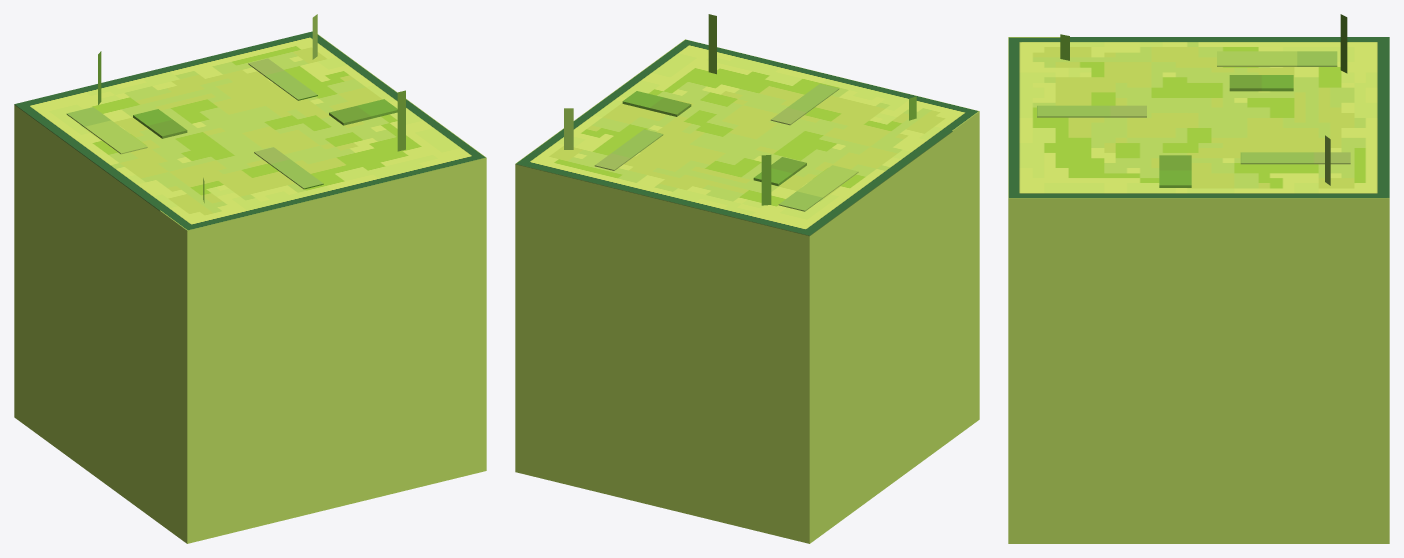
The model's file is grasstile1.fbx.
3 renders of one model, left to right at view 1: azimuth 30°, elevation 25°; view 2: azimuth 150°, elevation 25°; view 3: azimuth 270°, elevation 25°, orthographic. The views are drawn at different scales.
Visible parts, largest first — view 1: grasstile_1; view 2: grasstile_1; view 3: grasstile_1.
Boxes of the visible parts, x1=… form: grasstile_1: x1=14, y1=14, x2=486, y2=543; grasstile_1: x1=515, y1=14, x2=979, y2=543; grasstile_1: x1=1008, y1=14, x2=1389, y2=543.
Bounding box in the file's own units: 5 × 5.95 × 5.
2 materials, 2 textured.
